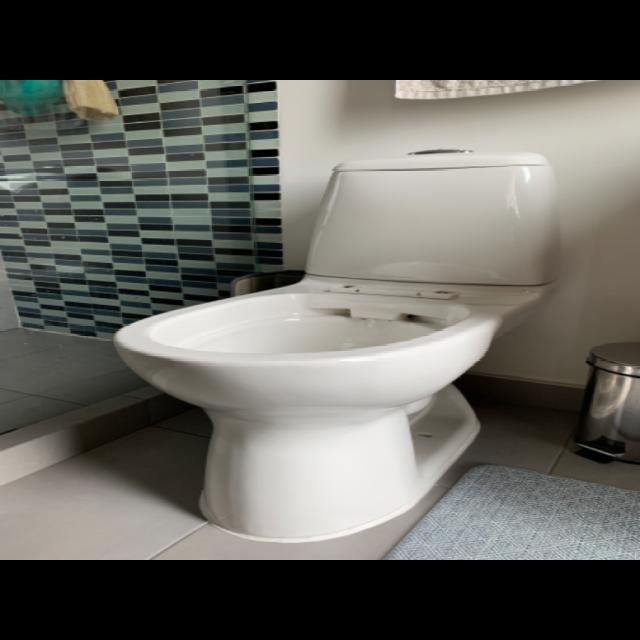toilet: (108, 145, 568, 543)
